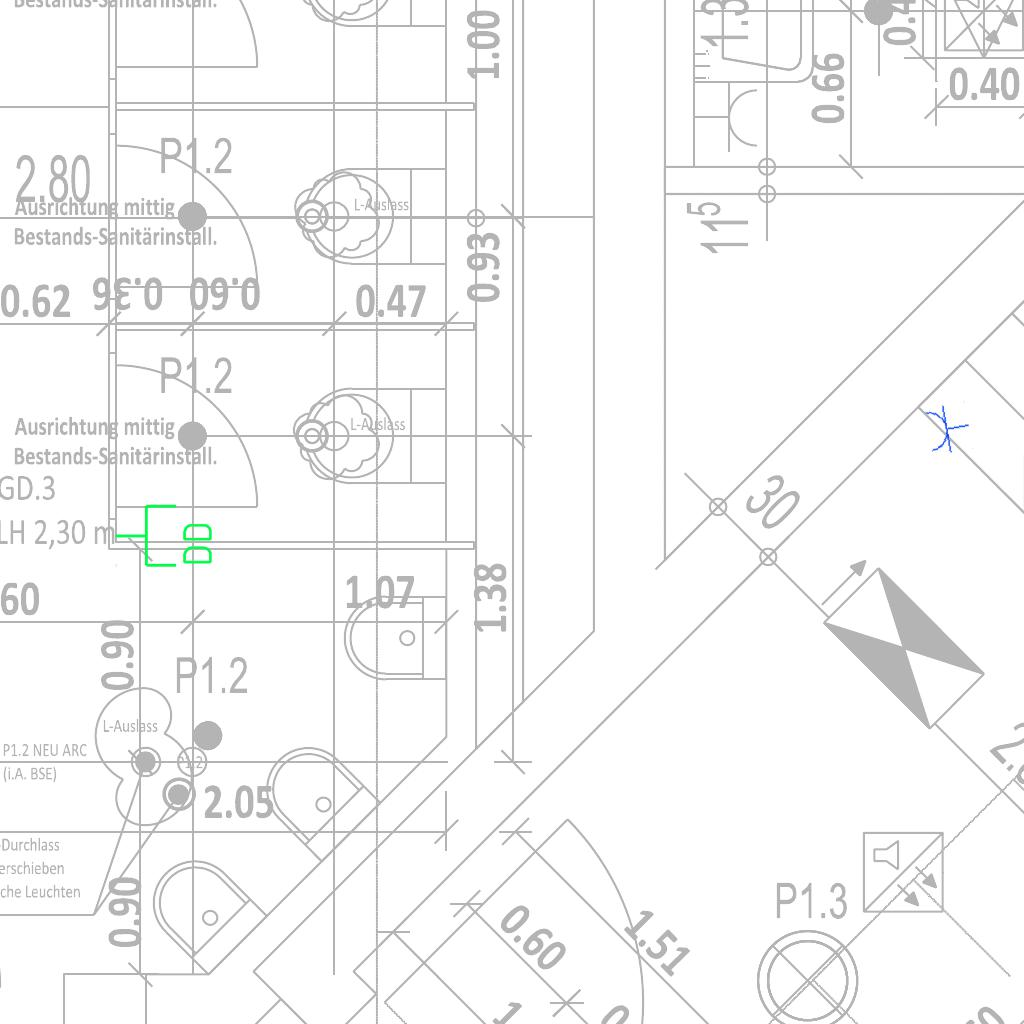Datenanschluss_zweifach: (113, 502, 216, 571)
Schukosteckdose_einfach: (922, 400, 974, 457)
